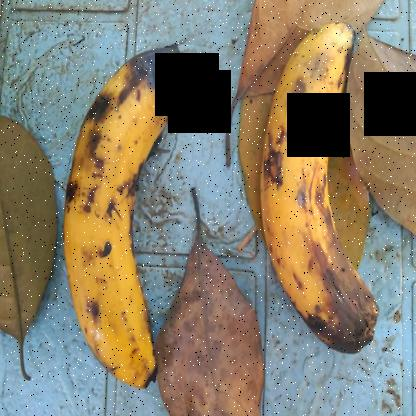overripe: (48, 28, 195, 388), (246, 9, 388, 351)
